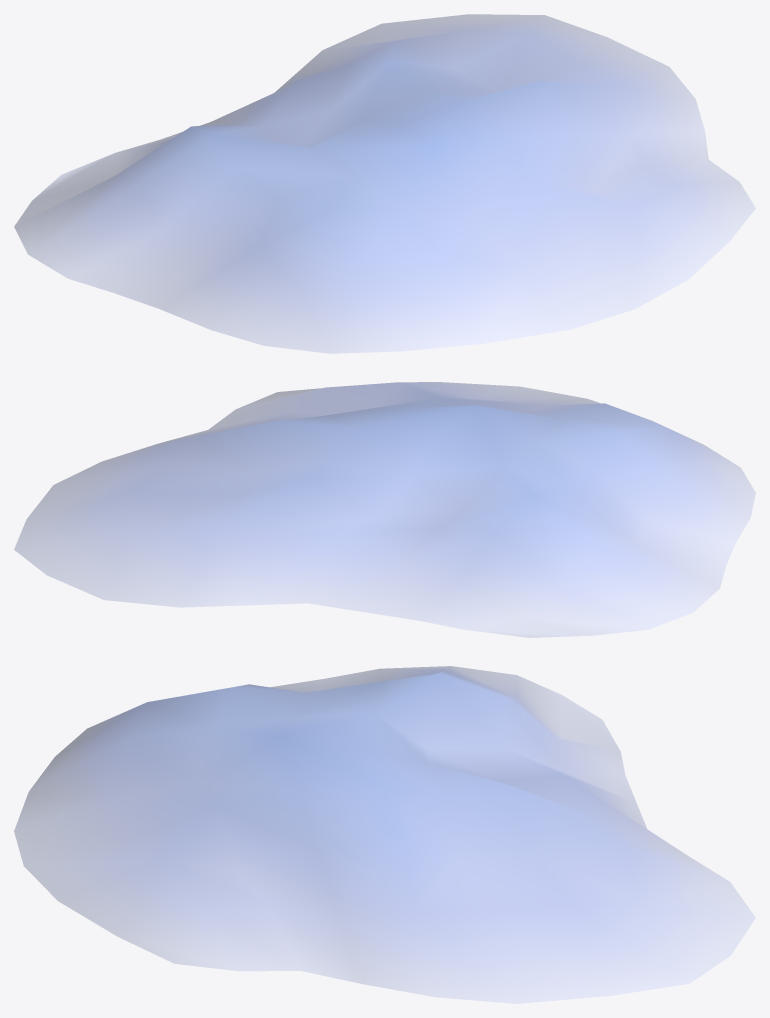
Rendered from snowpile01.fbx.
3 renders of one model, top to bottom at view 1: azimuth 30°, elevation 25°; view 2: azimuth 150°, elevation 25°; view 3: azimuth 270°, elevation 25°, orthographic. The views are drawn at different scales.
Visible parts, largest first — view 1: snowpile01; view 2: snowpile01; view 3: snowpile01.
Part boxes in pixels (x1=…): snowpile01: x1=14, y1=14, x2=755, y2=353; snowpile01: x1=14, y1=382, x2=755, y2=637; snowpile01: x1=14, y1=666, x2=755, y2=1003.
Size of the model in its own units: 1.36 by 0.1713 by 1.26.
